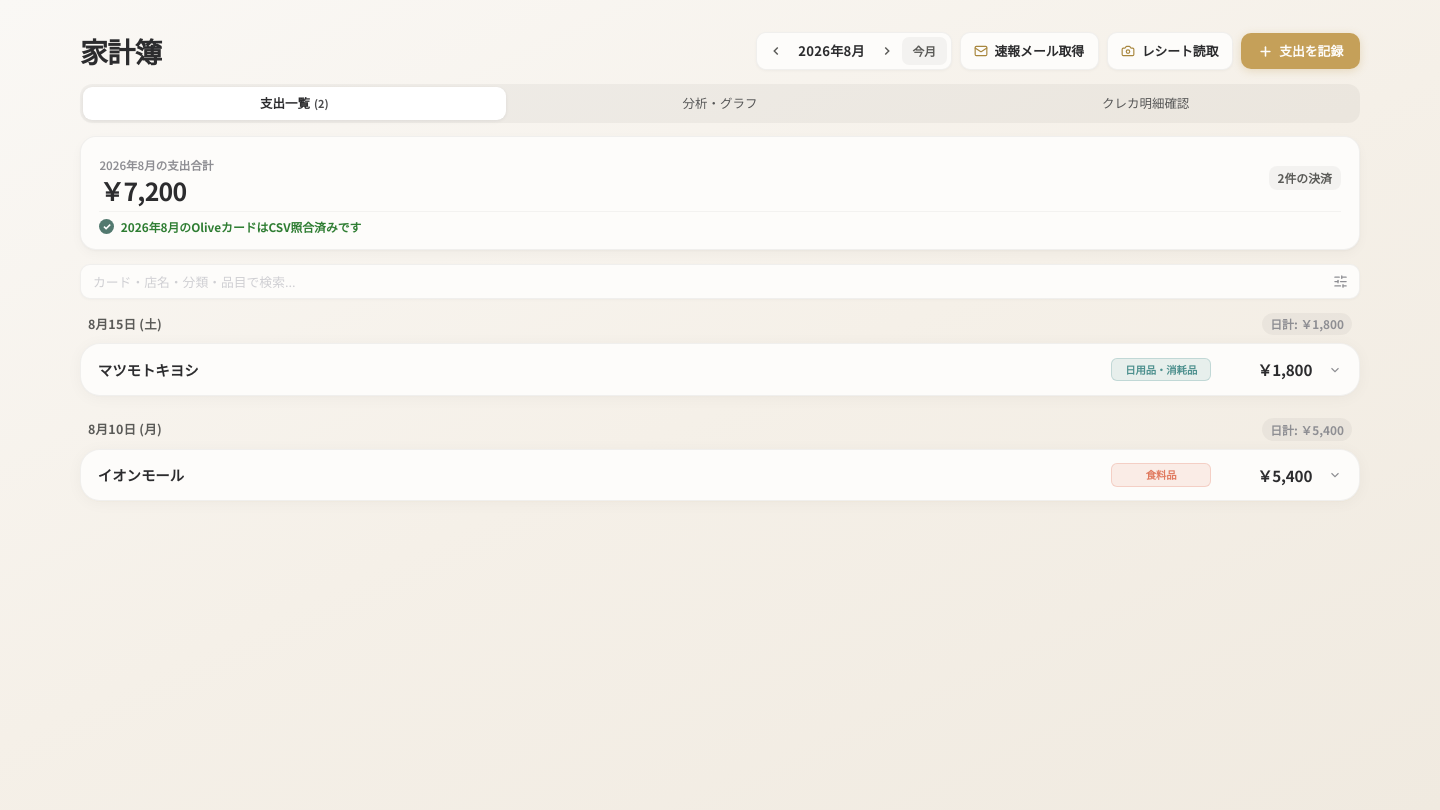
Test case: Finance コンポーネント › タブ切り替え（分析・グラフ、クレカ明細突合）が機能する
expect the text "2026年8月の支出合計" is shown: met, box [99,157,213,173]
expect the text "2件の決済" is shown: met, box [1269,166,1341,190]
「分析・グラフ」タブをクリック
What coordinates should you click on to do the following:
click the button "分析・グラフ"
I would click on:
 (720, 103)
Its box is [509,87,931,120].
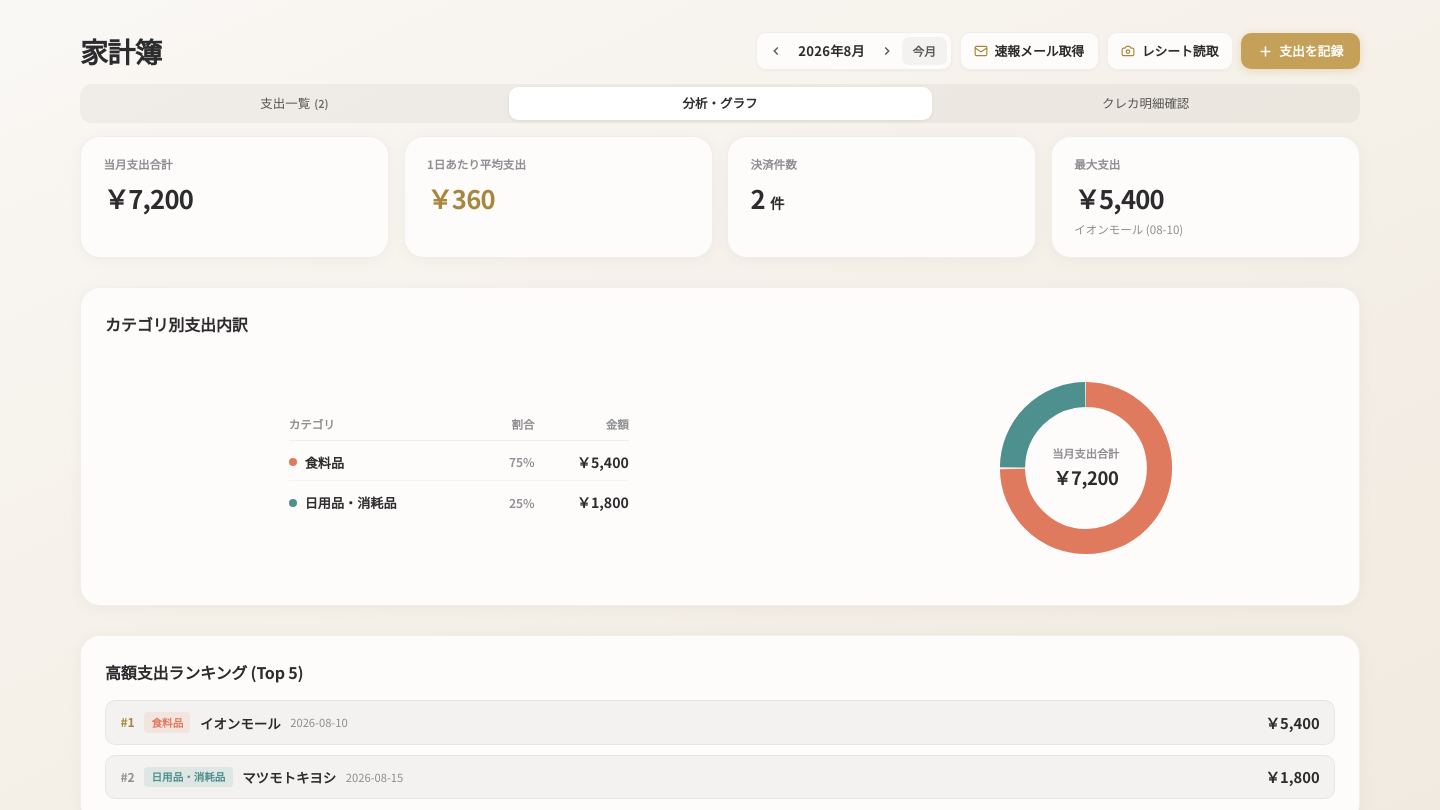
expect the heading "カテゴリ別支出内訳" is shown: met, box [105,312,248,336]
expect the text "割合" is shown: met, box [512,416,534,432]
expect the text "の支出合計" is gone: met
「クレカ明細確認」タブをクリック
What coordinates should you click on to do the following:
click the button "クレカ明細確認"
I would click on:
 (1146, 103)
Its box is [934,87,1357,120].
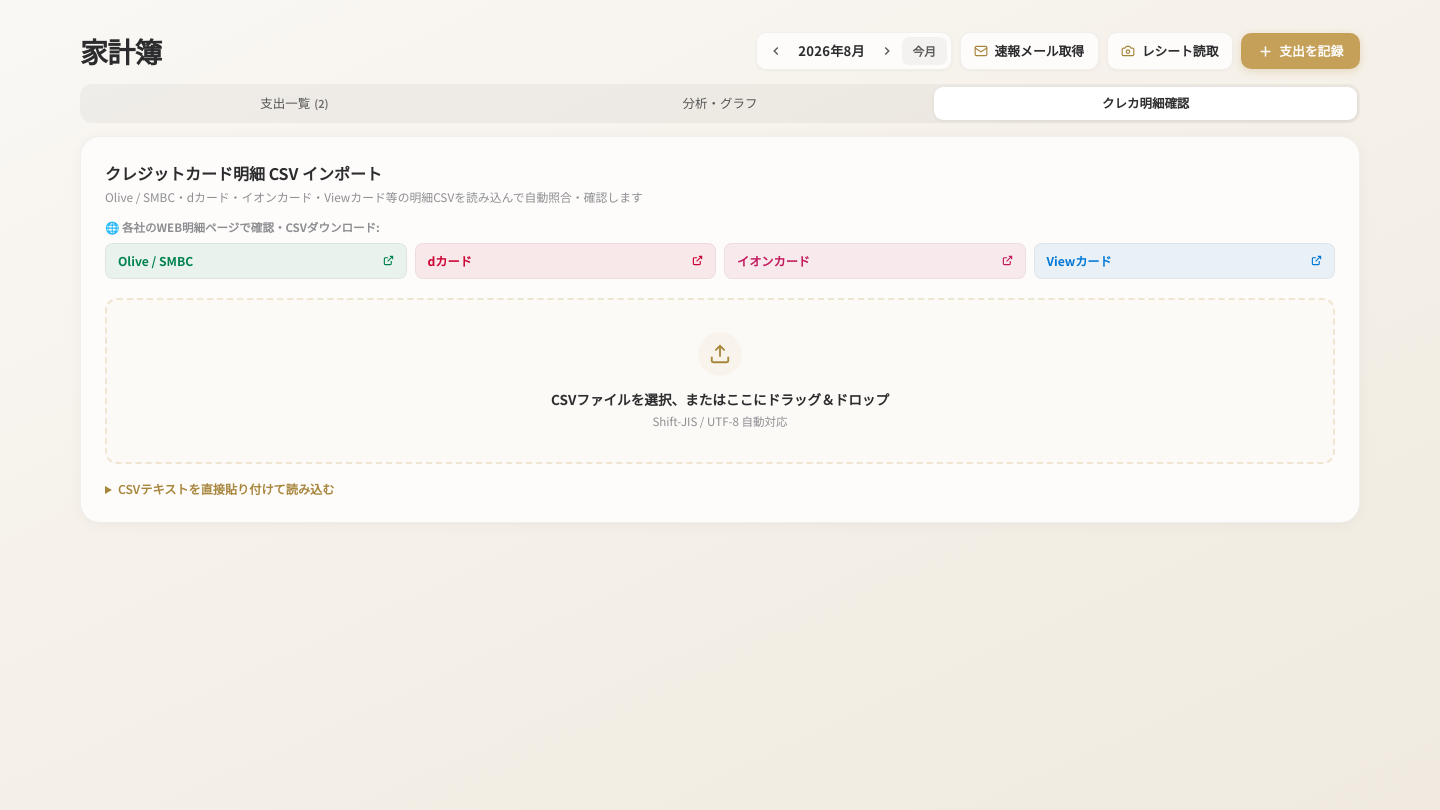
expect the text "の支出合計" is not shown: met
expect the heading "クレジットカード明細 CSV インポート" is shown: met, box [105,161,382,185]
